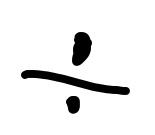div: (21, 32, 130, 114)
